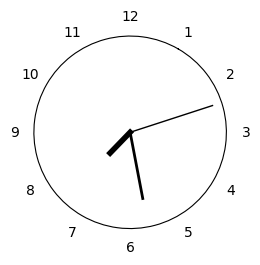12: (122, 8, 139, 22)
circle: (34, 37, 227, 228)
hours: (107, 129, 133, 157)
minutes: (130, 136, 143, 199)
seconds: (132, 105, 215, 131)
